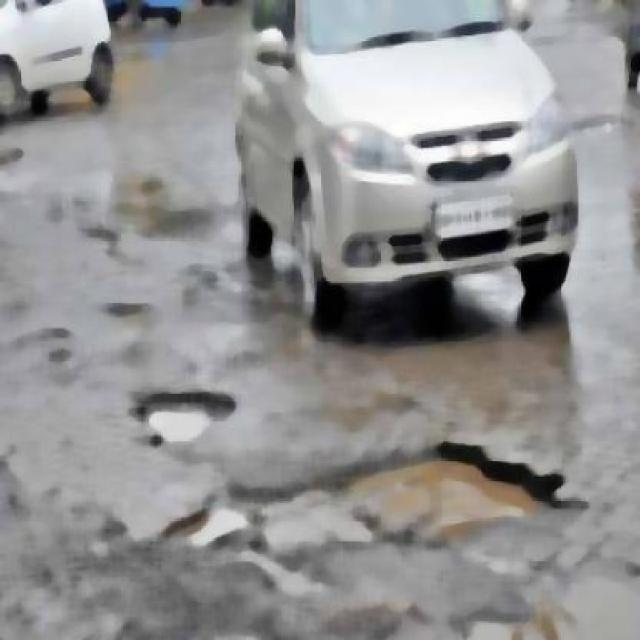Pothole: (352, 430, 566, 548), (463, 583, 639, 639), (141, 373, 236, 458), (176, 478, 262, 559), (142, 594, 292, 638)
